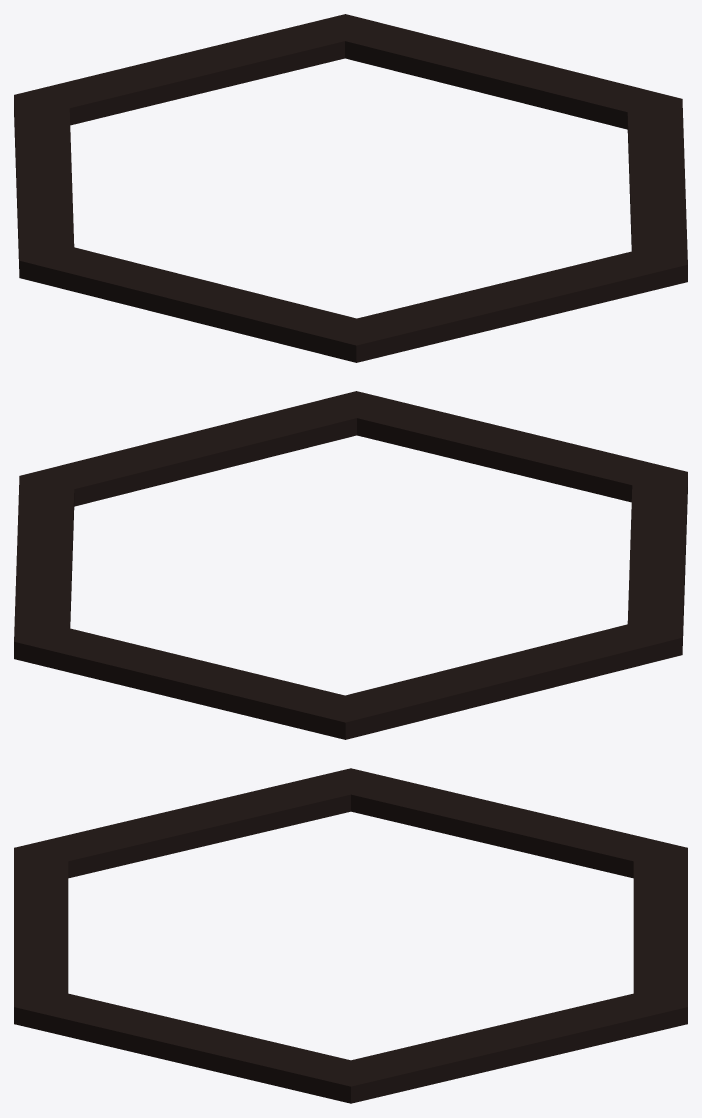
File: GroundFrame.fbx
3 views of the same model, one above another, from view 1: azimuth 30°, elevation 25°; view 2: azimuth 150°, elevation 25°; view 3: azimuth 270°, elevation 25° (orthographic).
Visible parts, largest first — view 1: GroundFrame; view 2: GroundFrame; view 3: GroundFrame.
Part boxes in pixels (<box>): GroundFrame: <box>14,14,687,362</box>; GroundFrame: <box>14,391,687,739</box>; GroundFrame: <box>14,768,687,1103</box>.
Size of the model in its own units: 181 by 4.53 by 162.
